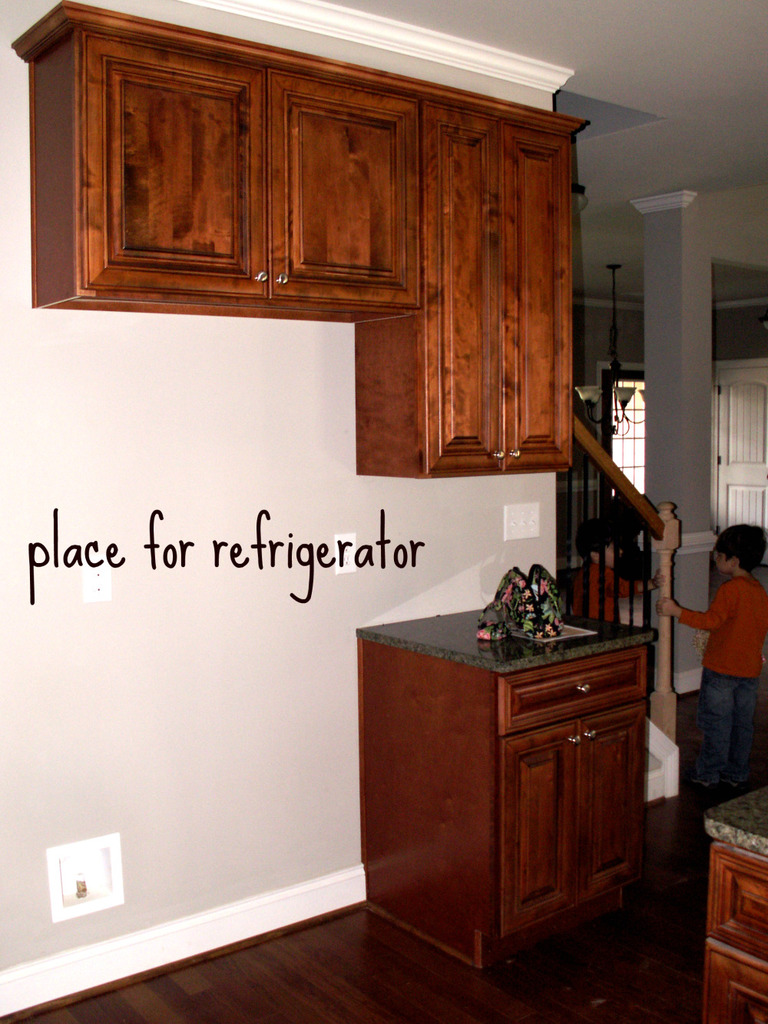cabinet door: (91, 46, 263, 290), (266, 80, 410, 302), (429, 134, 509, 459), (500, 144, 571, 459), (511, 725, 581, 916), (585, 724, 641, 886), (515, 653, 641, 713)
door: (719, 373, 766, 525)
handle: (273, 253, 291, 296), (511, 438, 530, 476), (574, 677, 593, 707), (491, 434, 505, 472), (566, 725, 582, 755), (256, 262, 270, 294), (583, 727, 599, 750)
